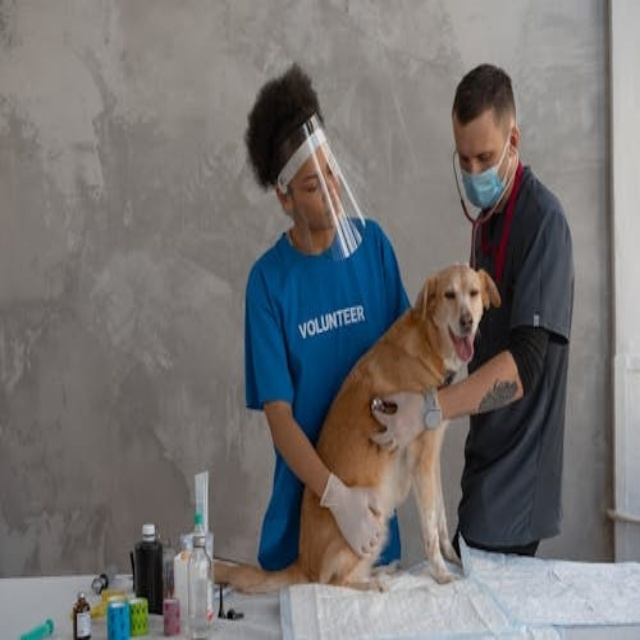Guantes: (319, 469, 383, 558), (370, 388, 434, 452)
Mascara: (277, 118, 366, 265), (458, 135, 513, 211)
Sin_gafas: (292, 154, 335, 202), (451, 140, 498, 175)
